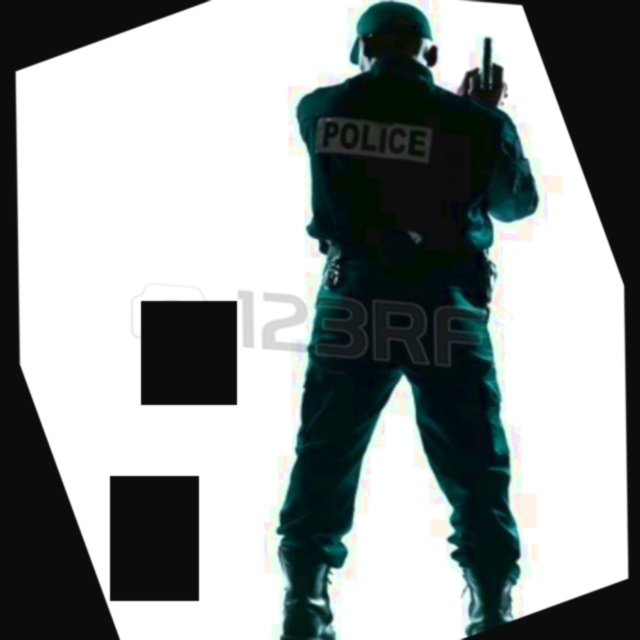gun: (426, 0, 541, 132)
